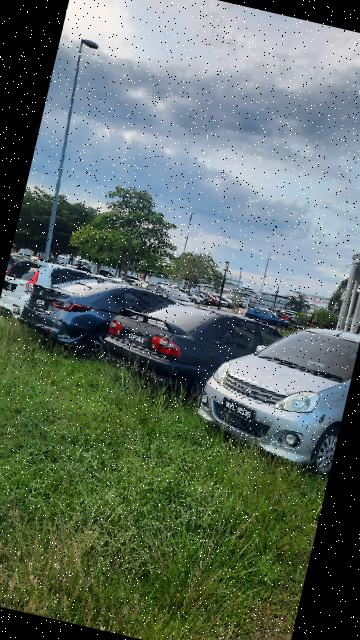License_Plate: (219, 395, 263, 426), (119, 327, 153, 352), (33, 295, 53, 312), (4, 281, 20, 295)
car: (188, 302, 360, 482), (97, 284, 304, 426), (16, 261, 186, 380)
